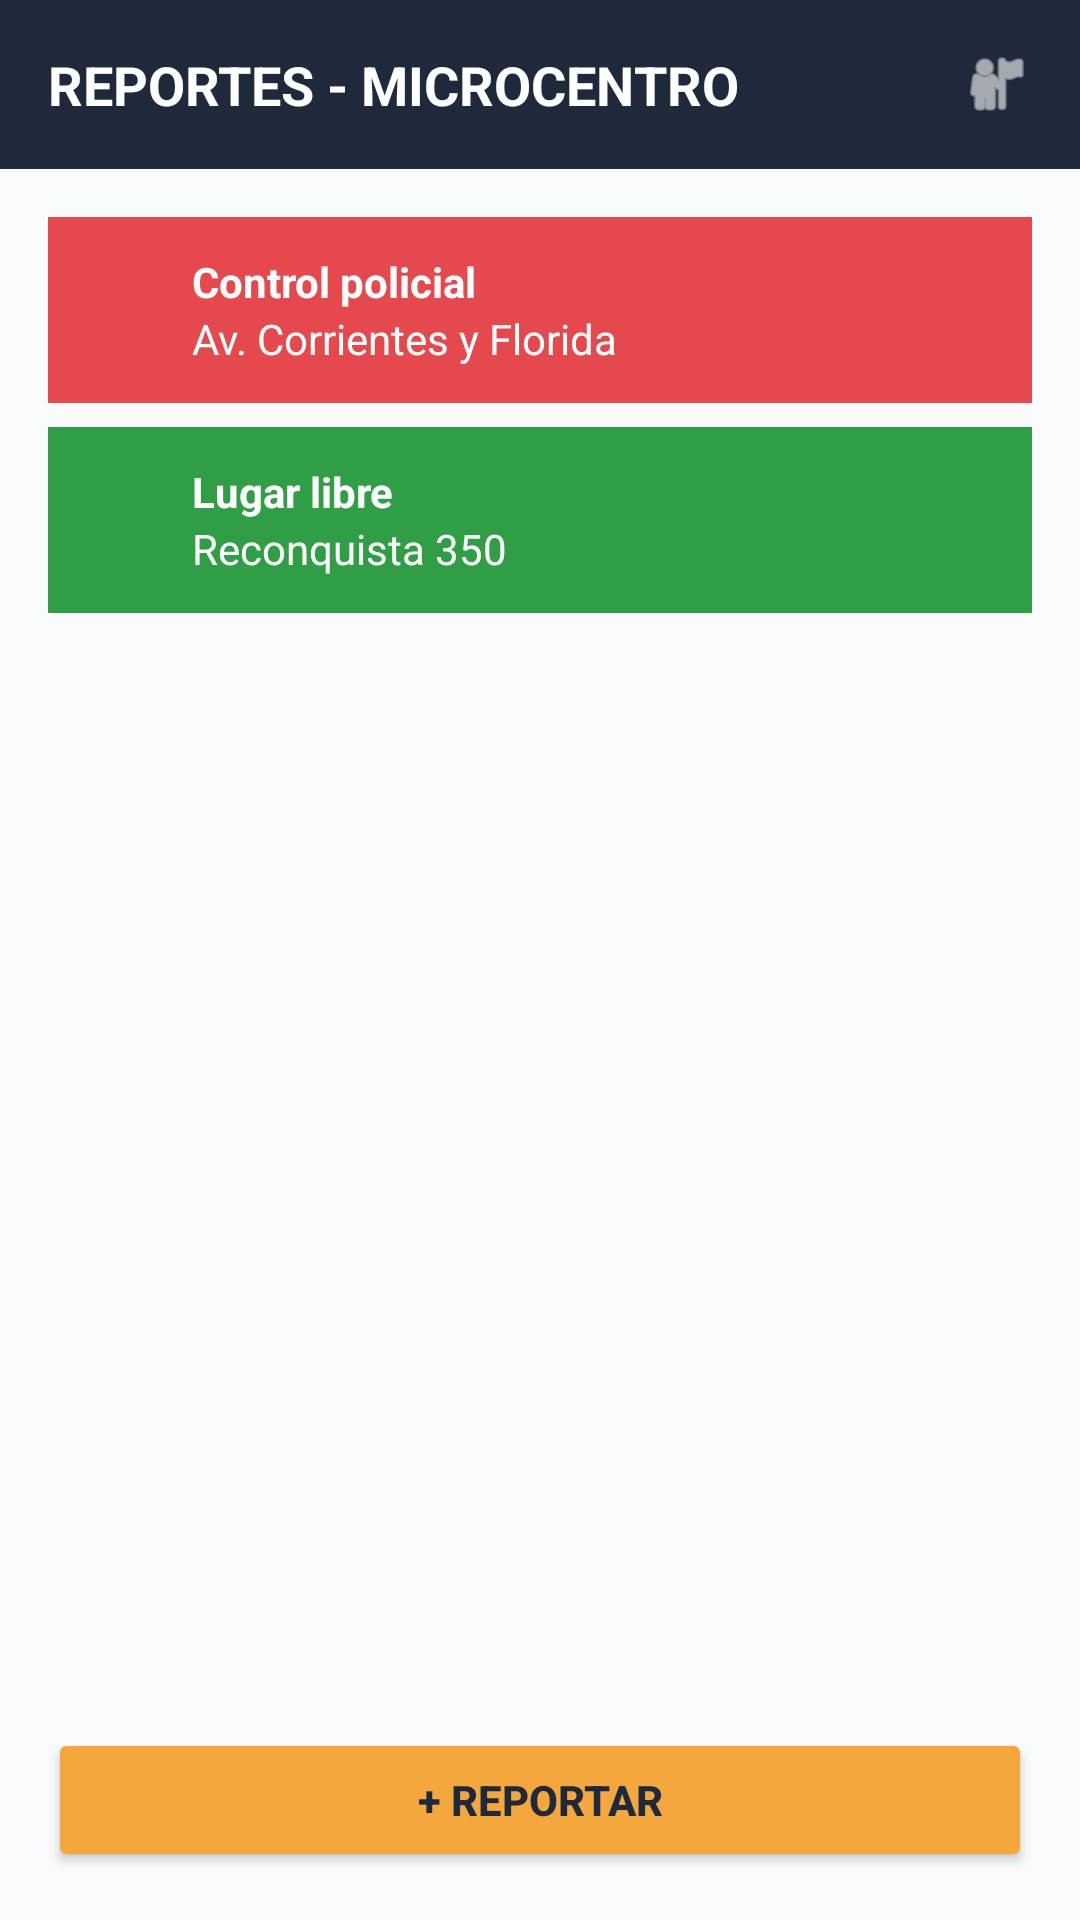

Point at icon controls on the screen. Image size 1080×1920, points as (x=x, y=y).
Perfil: (x=997, y=84)
